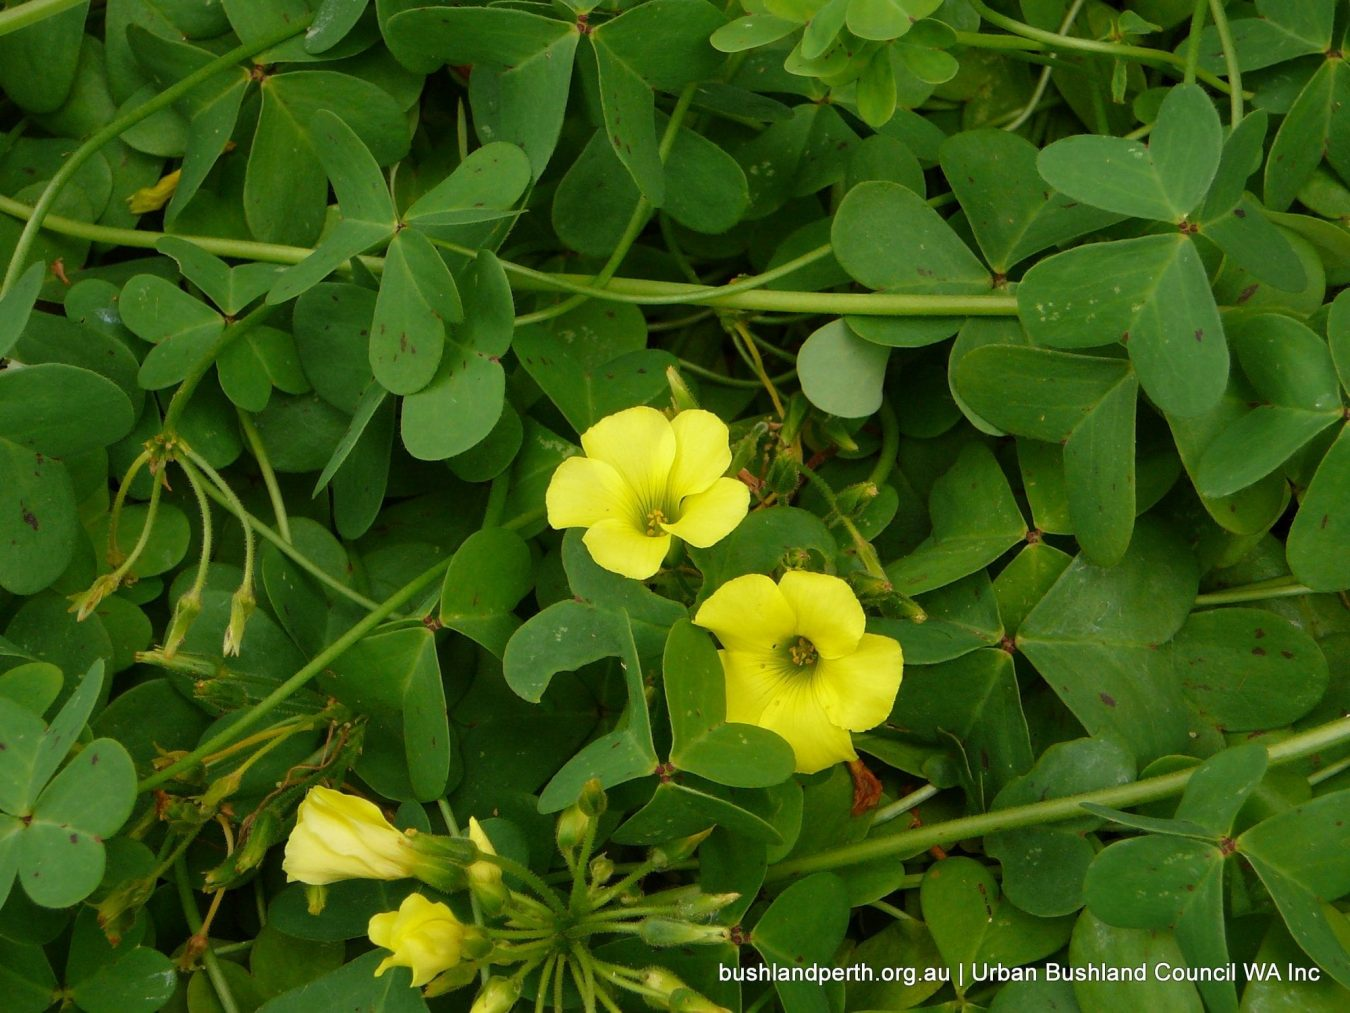oxalis: (67, 60, 1350, 963)
